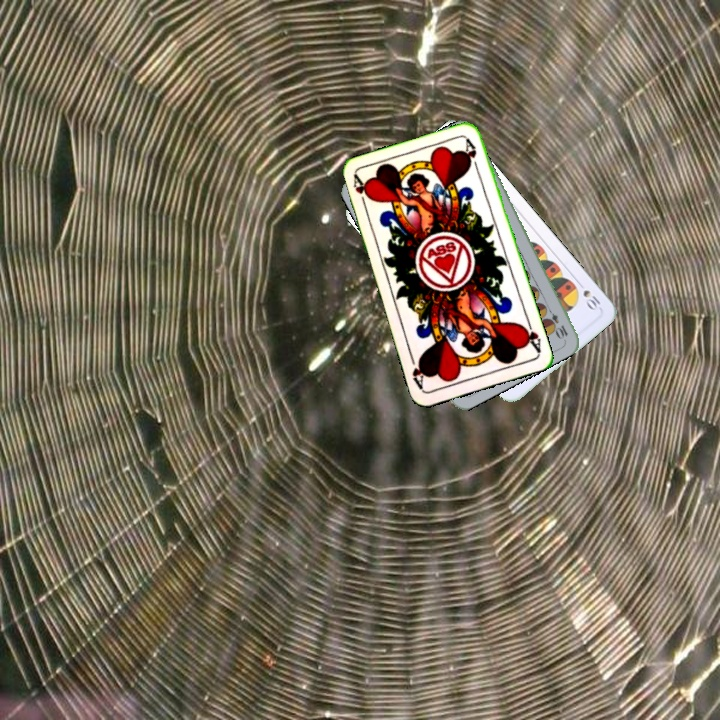E10: (542, 303, 571, 341)
HA: (517, 315, 543, 355), (349, 171, 371, 212)
S10: (573, 277, 603, 313)
